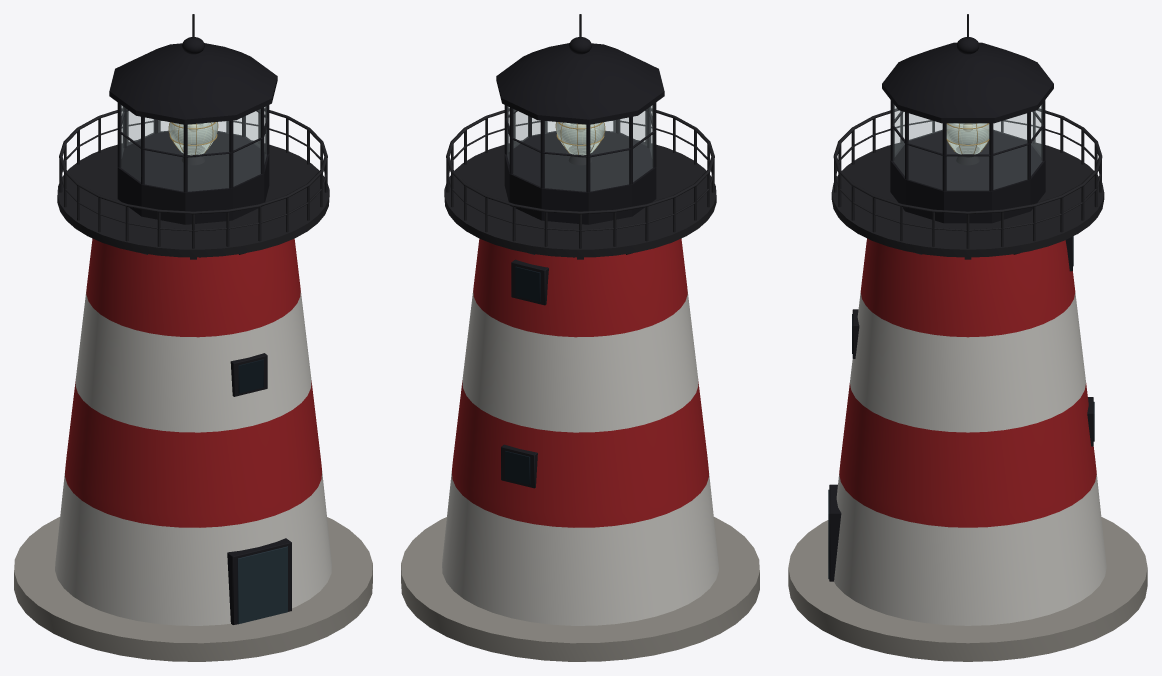
Rendered from build-lighthouse.glb.
The picture shows the model from 3 angles, left to right: view 1: azimuth 30°, elevation 25°; view 2: azimuth 150°, elevation 25°; view 3: azimuth 270°, elevation 25°; orthographic projection.
Parts seen in each view (by area): view 1: build-lighthouse-Red_And_White_Lighthouse; view 2: build-lighthouse-Red_And_White_Lighthouse; view 3: build-lighthouse-Red_And_White_Lighthouse.
Boxes of the visible parts, left/top/right/bottom form: build-lighthouse-Red_And_White_Lighthouse: left=14, top=14, right=372, bottom=661; build-lighthouse-Red_And_White_Lighthouse: left=401, top=14, right=759, bottom=661; build-lighthouse-Red_And_White_Lighthouse: left=788, top=14, right=1147, bottom=661.
Bounding box in the file's own units: 3.48 × 6.11 × 3.48.
